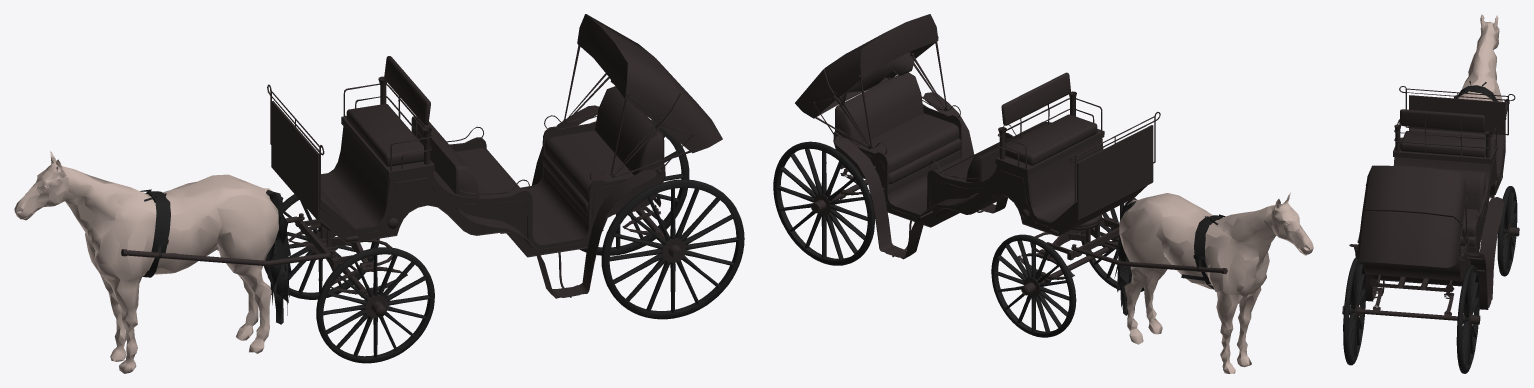
File: horse&coach.fbx
The picture shows the model from 3 angles, left to right: view 1: azimuth 30°, elevation 25°; view 2: azimuth 150°, elevation 25°; view 3: azimuth 270°, elevation 25°; orthographic projection. The views are drawn at different scales.
Parts seen in each view (by area): view 1: Carriage, Horse.001, Wheels, horse_fur, Horse_reins_leather; view 2: Carriage, Horse.001, Wheels, Horse_reins_leather, horse_fur; view 3: Carriage, Wheels, Horse.001, Horse_reins_leather.
Boxes of the visible parts, <box> form: Carriage: <box>121,14,722,317</box>; Horse.001: <box>14,151,278,373</box>; Wheels: <box>264,119,744,363</box>; horse_fur: <box>264,188,291,324</box>; Horse_reins_leather: <box>140,189,176,277</box>; Carriage: <box>795,14,1227,297</box>; Horse.001: <box>1119,192,1313,373</box>; Wheels: <box>773,104,1144,337</box>; Horse_reins_leather: <box>1181,214,1225,289</box>; horse_fur: <box>1114,200,1136,315</box>; Carriage: <box>1342,86,1519,328</box>; Wheels: <box>1343,186,1517,373</box>; Horse.001: <box>1458,14,1502,198</box>; Horse_reins_leather: <box>1456,81,1506,119</box>.
Size of the model in its own units: 134 by 50.85 by 44.03.
